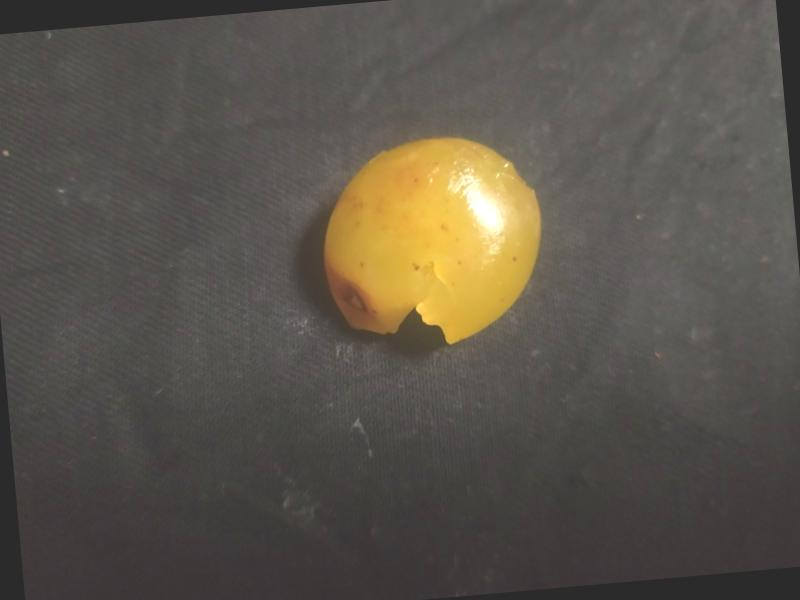Grape Overripe: (310, 126, 553, 357)
